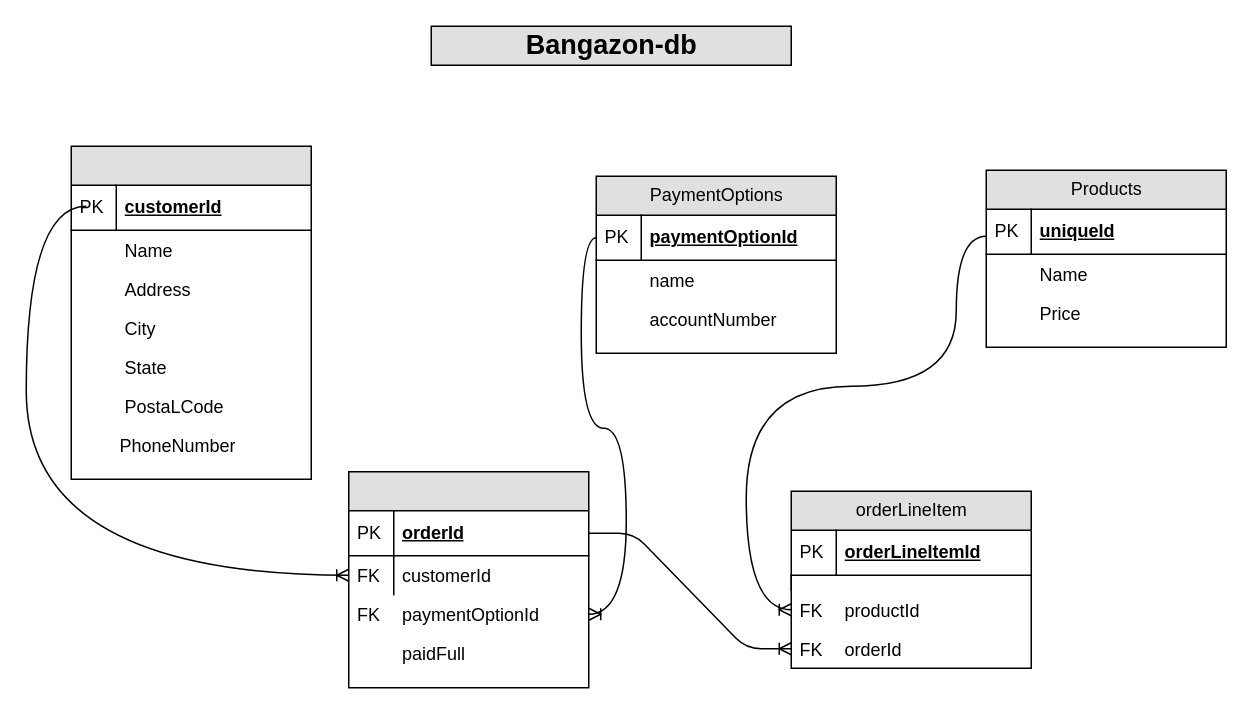
Image size: 1253x714. Some labels were removed from this diagram. Each missing label, with the box of its shape:
Customers: (70, 145, 311, 479)
Orders: (347, 470, 589, 688)
